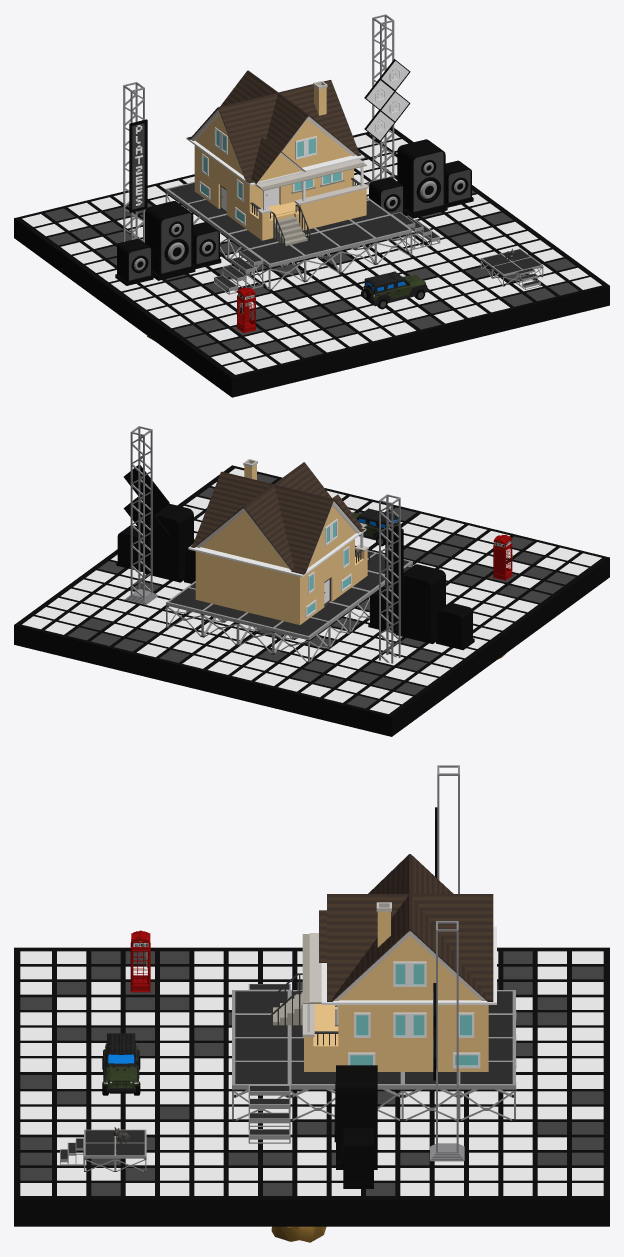
3 views of the same model, one above another, from view 1: azimuth 30°, elevation 25°; view 2: azimuth 150°, elevation 25°; view 3: azimuth 270°, elevation 25° (orthographic). The views are drawn at different scales.
Parts seen in each view (by area): view 1: Cube.008, Cube.235, VEHICLES_JEEP, OBJRANDOM_PHONEBOOTH; view 2: Cube.008, Cube.235, OBJRANDOM_PHONEBOOTH, VEHICLES_JEEP; view 3: Cube.008, Cube.235, VEHICLES_JEEP, OBJRANDOM_PHONEBOOTH, UNDERGROUND_T_REX_BONES.
Part boxes in pixels (left/top/right/bottom): Cube.008: left=14, top=14, right=609, bottom=397; Cube.235: left=186, top=70, right=369, bottom=247; VEHICLES_JEEP: left=361, top=271, right=428, bottom=309; OBJRANDOM_PHONEBOOTH: left=236, top=287, right=255, bottom=333; Cube.008: left=14, top=426, right=609, bottom=736; Cube.235: left=188, top=459, right=369, bottom=624; OBJRANDOM_PHONEBOOTH: left=493, top=535, right=512, bottom=580; VEHICLES_JEEP: left=352, top=508, right=402, bottom=546; Cube.008: left=14, top=765, right=609, bottom=1226; Cube.235: left=270, top=854, right=496, bottom=1071; VEHICLES_JEEP: left=102, top=1033, right=140, bottom=1095; OBJRANDOM_PHONEBOOTH: left=130, top=930, right=150, bottom=992; UNDERGROUND_T_REX_BONES: left=271, top=1226, right=326, bottom=1242.
Bounding box in the file's own units: 4000 × 2085 × 4000.
Materials: 46 (1 with a texture image).
